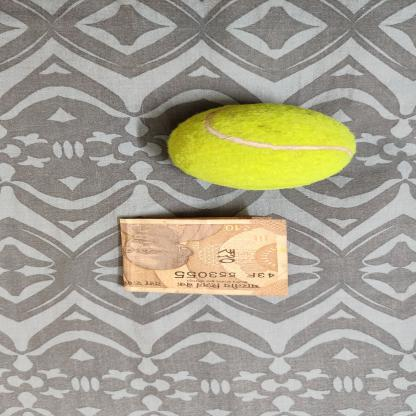New10Front: (115, 217, 293, 298)
